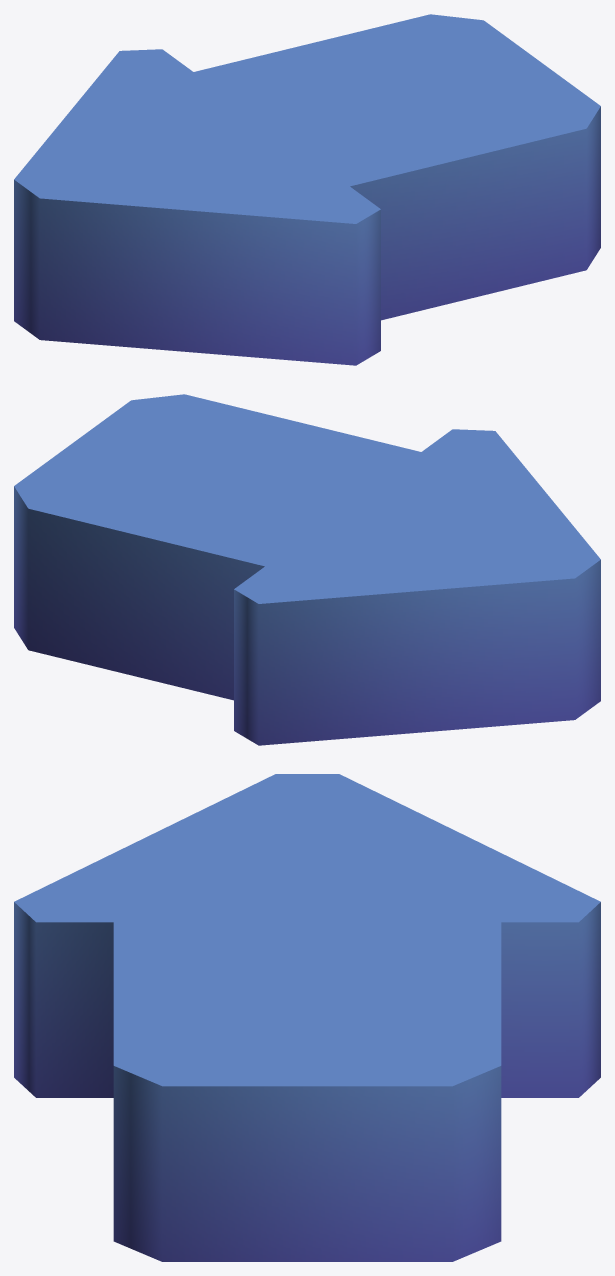
The model's file is arrow-rounded.glb.
3 renders of one model, top to bottom at view 1: azimuth 30°, elevation 25°; view 2: azimuth 150°, elevation 25°; view 3: azimuth 270°, elevation 25°, orthographic. The views are drawn at different scales.
Parts seen in each view (by area): view 1: arrow-rounded; view 2: arrow-rounded; view 3: arrow-rounded.
Part boxes in pixels (x1,y1,x2,y2): arrow-rounded: (14,14,600,365); arrow-rounded: (14,394,600,745); arrow-rounded: (14,774,600,1261).
Bounding box in the file's own units: 0.7618 × 0.2 × 0.6055.
1 material, 1 textured.
